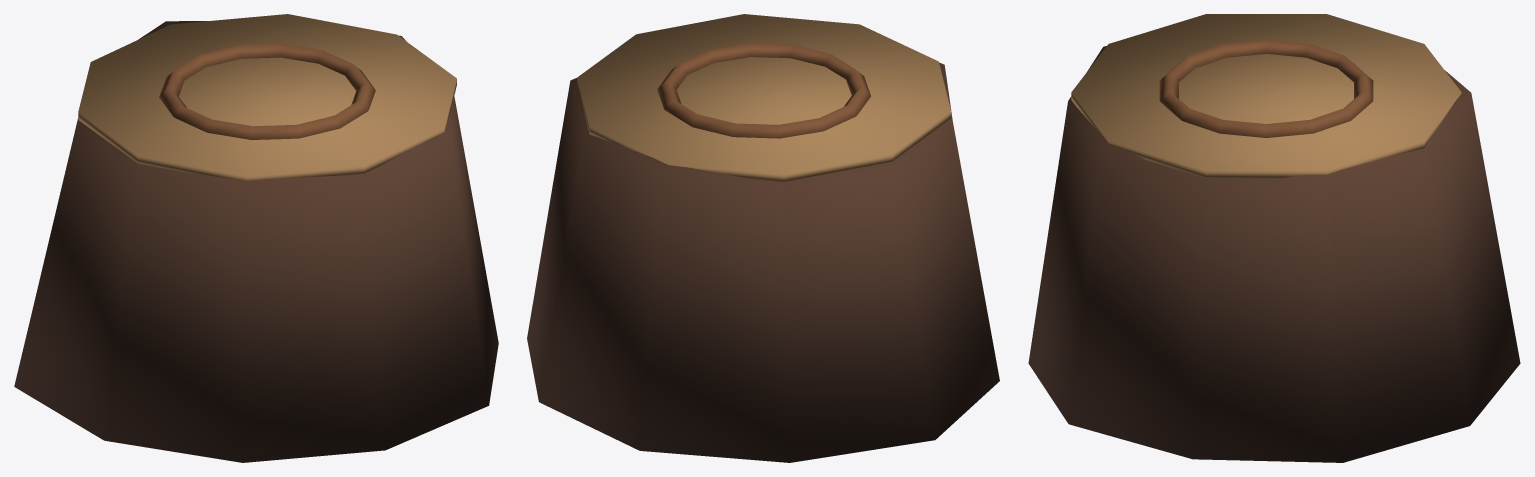
File: stump.glb
3 views of the same model, side by side, from view 1: azimuth 30°, elevation 25°; view 2: azimuth 150°, elevation 25°; view 3: azimuth 270°, elevation 25° (orthographic). The views are drawn at different scales.
Parts seen in each view (by area): view 1: Stump; view 2: Stump; view 3: Stump.
Part boxes in pixels (x1,y1,x2,y2): Stump: (14,14,498,462); Stump: (527,14,999,462); Stump: (1028,14,1520,462).
Size of the model in its own units: 0.5824 by 0.374 by 0.5923.
